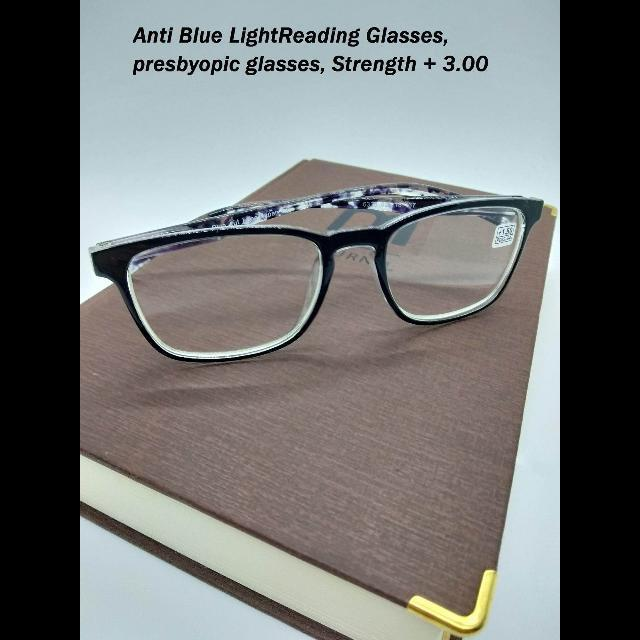glasses: (80, 186, 548, 364)
